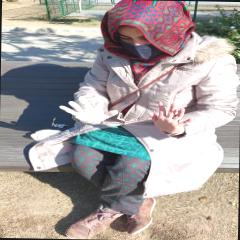gloved: (59, 97, 120, 125)
not-gloved: (143, 102, 188, 132)
